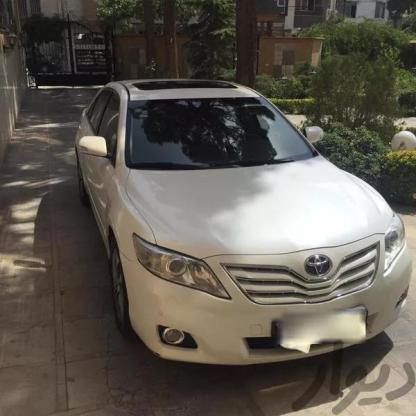Car: (59, 73, 406, 376)
